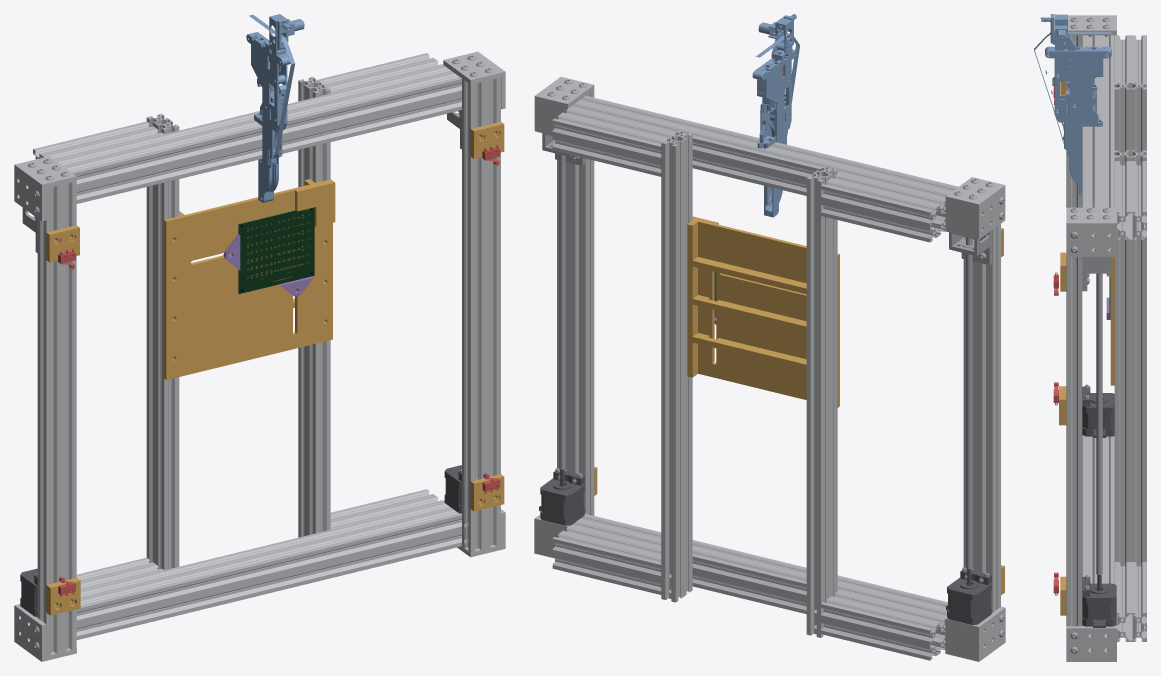
The picture shows the model from 3 angles, left to right: view 1: azimuth 30°, elevation 25°; view 2: azimuth 150°, elevation 25°; view 3: azimuth 270°, elevation 25°; orthographic projection. The views are drawn at different scales.
Parts seen in each view (by area): view 1: pt_37#109, pt_2#41, pt_2#42, pt_0#23, pt_0#3, pt_0#106, pt_0#107, board_top, pt_51#93, pt_23#45, pt_1#104, pt_1#105 (+12 smaller); view 2: pt_37#109, pt_0#107, pt_0#106, pt_0#3, pt_0#23, pt_2#42, pt_2#41, pt_1#104, pt_1#102, pt_1#105, pt_1#103, pt_23#45 (+11 smaller); view 3: pt_0#107, pt_0#23, pt_50#92, pt_2#42, pt_2#41, pt_1#105, pt_1#103, pt_6#43, pt_0#106, pt_42#25, pt_6#44, pt_1#104 (+11 smaller).
Boxes of the visible parts, left/top/right/bottom form: pt_37#109: left=164, top=179, right=335, bottom=379; pt_2#41: left=37, top=502, right=461, bottom=639; pt_2#42: left=56, top=66, right=461, bottom=203; pt_0#23: left=462, top=77, right=500, bottom=552; pt_0#3: left=37, top=181, right=76, bottom=656; pt_0#106: left=146, top=113, right=179, bottom=570; pt_0#107: left=298, top=77, right=330, bottom=537; board_top: left=239, top=207, right=314, bottom=293; pt_51#93: left=246, top=34, right=283, bottom=202; pt_23#45: left=14, top=156, right=76, bottom=221; pt_1#104: left=33, top=121, right=163, bottom=160; pt_1#105: left=315, top=53, right=443, bottom=93; pt_37#109: left=687, top=216, right=839, bottom=407; pt_0#107: left=661, top=130, right=692, bottom=602; pt_0#106: left=806, top=166, right=837, bottom=637; pt_0#3: left=963, top=224, right=1000, bottom=612; pt_0#23: left=557, top=90, right=594, bottom=515; pt_2#42: left=569, top=96, right=958, bottom=225; pt_2#41: left=569, top=513, right=947, bottom=643; pt_1#104: left=821, top=173, right=945, bottom=242; pt_1#102: left=821, top=592, right=945, bottom=660; pt_1#105: left=552, top=108, right=675, bottom=176; pt_1#103: left=552, top=526, right=661, bottom=594; pt_23#45: left=945, top=177, right=1005, bottom=239; pt_0#107: left=1114, top=150, right=1146, bottom=566; pt_0#23: left=1066, top=257, right=1082, bottom=626; pt_50#92: left=1045, top=47, right=1111, bottom=195; pt_2#42: left=1082, top=35, right=1114, bottom=249; pt_2#41: left=1082, top=435, right=1114, bottom=650; pt_1#105: left=1114, top=161, right=1146, bottom=240; pt_1#103: left=1114, top=562, right=1146, bottom=641; pt_6#43: left=1066, top=207, right=1116, bottom=256; pt_0#106: left=1114, top=82, right=1146, bottom=152; pt_42#25: left=1096, top=273, right=1102, bottom=574; pt_6#44: left=1066, top=613, right=1116, bottom=661; pt_1#104: left=1114, top=35, right=1146, bottom=84.
Bounding box in the file's own units: 0.6175 × 0.747 × 0.1401.
Materials: 1 (1 with a texture image).
